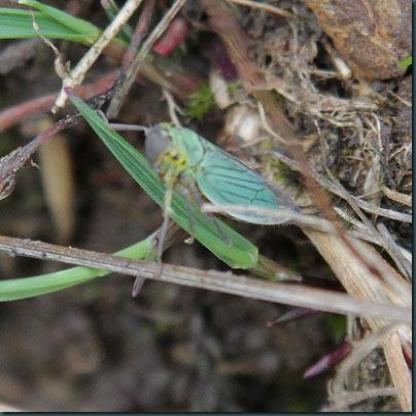Green-Leafhopper: (143, 117, 297, 263)
